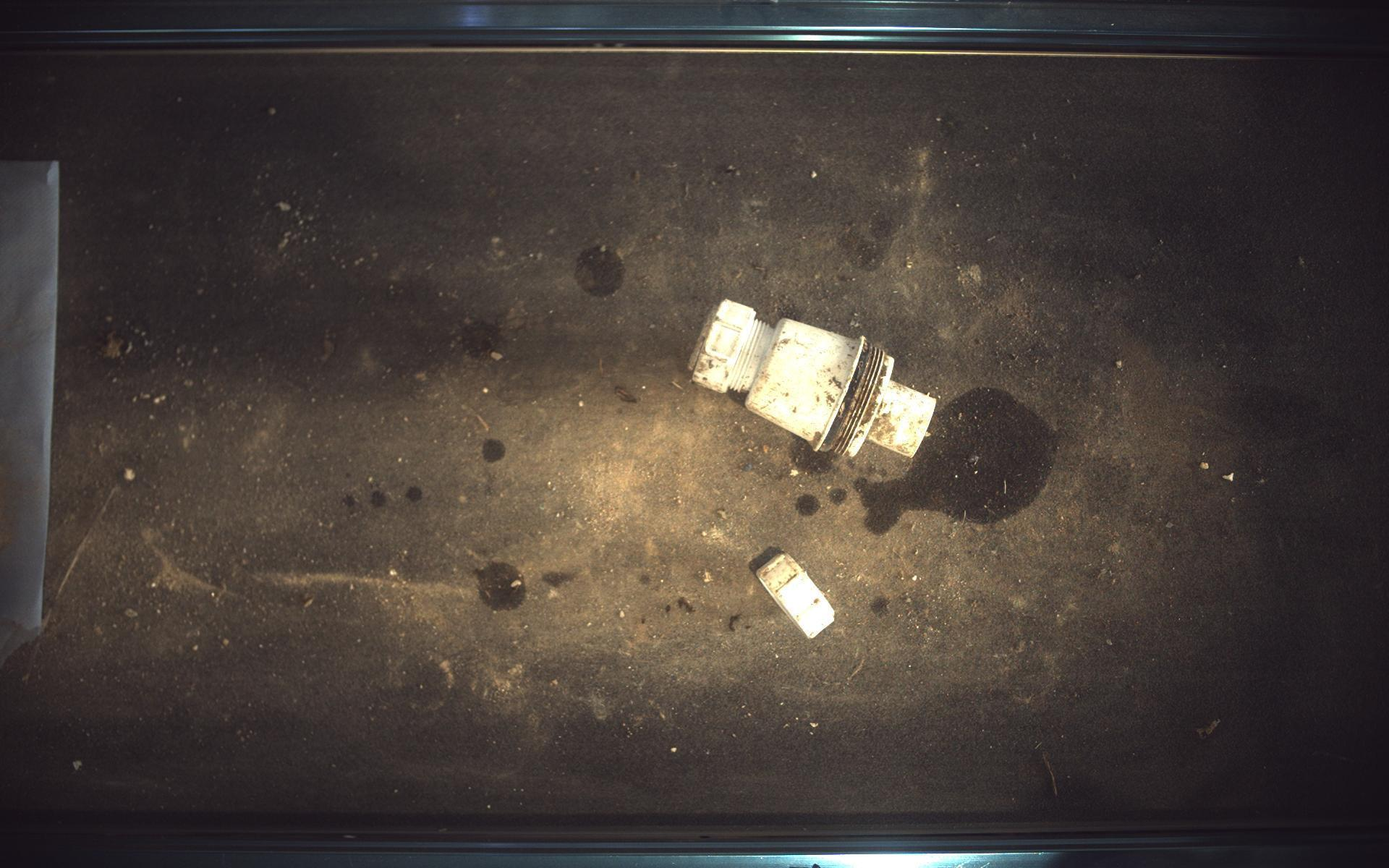plastic: (689, 299, 938, 457)
